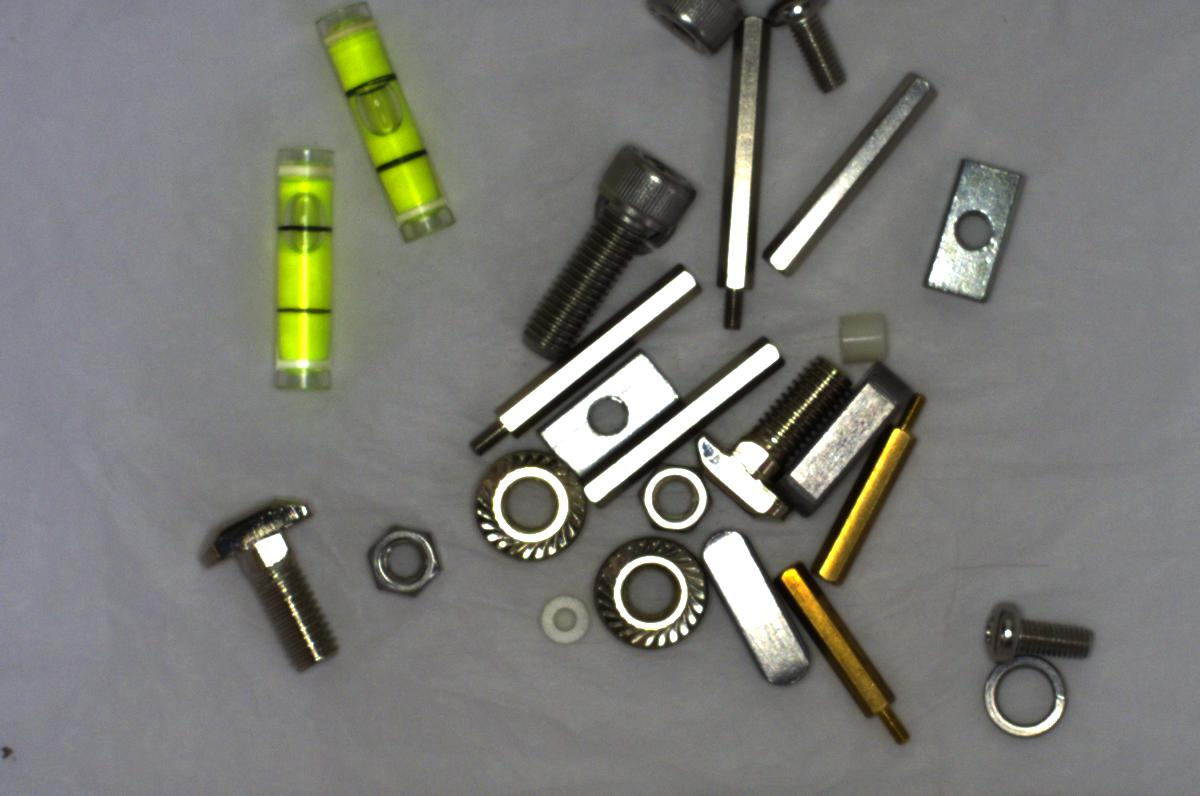Double hexagonal column: (558, 327, 784, 514), (767, 62, 944, 286)
Flange nut: (575, 533, 724, 656), (465, 436, 594, 574)
Hexagon nut: (351, 521, 455, 606), (634, 465, 715, 536)
Hexagon pillar: (766, 560, 923, 759), (810, 390, 921, 583)
Hexagon screw: (519, 139, 702, 359)
Hexagonal steel column: (473, 265, 708, 448), (710, 21, 774, 333)
Horizontal bubble: (307, 5, 470, 245), (258, 142, 346, 401)
Keybar: (775, 367, 924, 513), (697, 517, 805, 691)
Plastic cushion pillar: (826, 305, 892, 368), (537, 591, 594, 654)
Rectangular nut: (544, 354, 674, 478), (921, 156, 1021, 298)
Round head screw: (976, 589, 1106, 664), (767, 3, 856, 96)
Spring washer: (974, 651, 1084, 750)
T-shaped screw: (687, 351, 850, 531), (197, 486, 342, 680)
